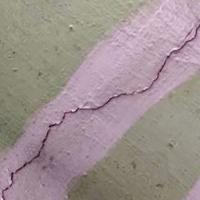crack: (1, 25, 199, 199)
